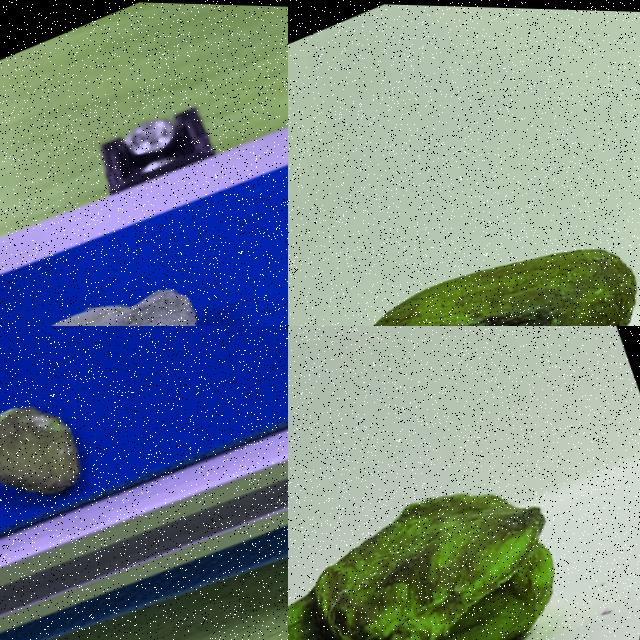Agglomerated_cocoabeans: (288, 383, 639, 639), (288, 178, 639, 325), (0, 185, 287, 325)
Flat_cocoabeans: (0, 326, 178, 573)
